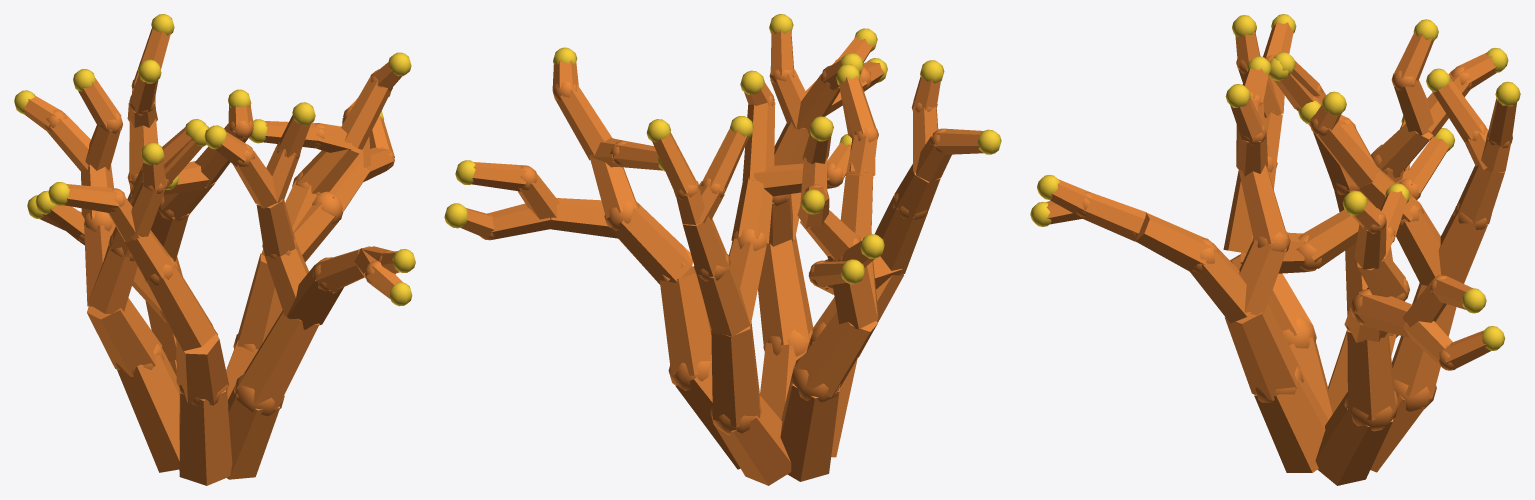
Rendered from StaghornCoral.fbx.
3 renders of one model, left to right at view 1: azimuth 30°, elevation 25°; view 2: azimuth 150°, elevation 25°; view 3: azimuth 270°, elevation 25°, orthographic. The views are drawn at different scales.
Parts seen in each view (by area): view 1: StaghornCoral; view 2: StaghornCoral; view 3: StaghornCoral.
Part boxes in pixels (x1,y1,x2,y2): StaghornCoral: [14, 14, 415, 485]; StaghornCoral: [444, 14, 1001, 485]; StaghornCoral: [1030, 14, 1520, 485].
Size of the model in its own units: 613 by 525 by 577.
1 material, 1 textured.
